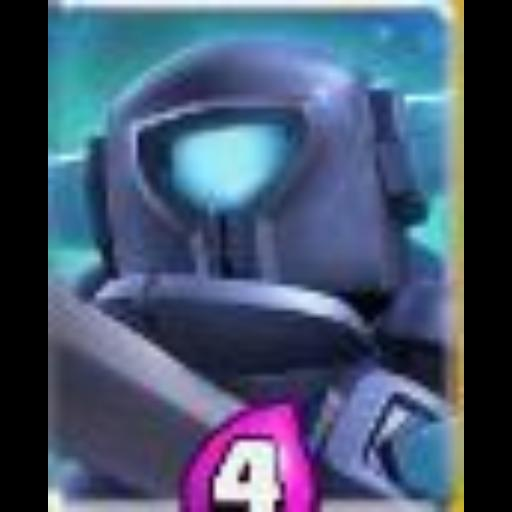mini-pekka: (50, 0, 464, 512)
